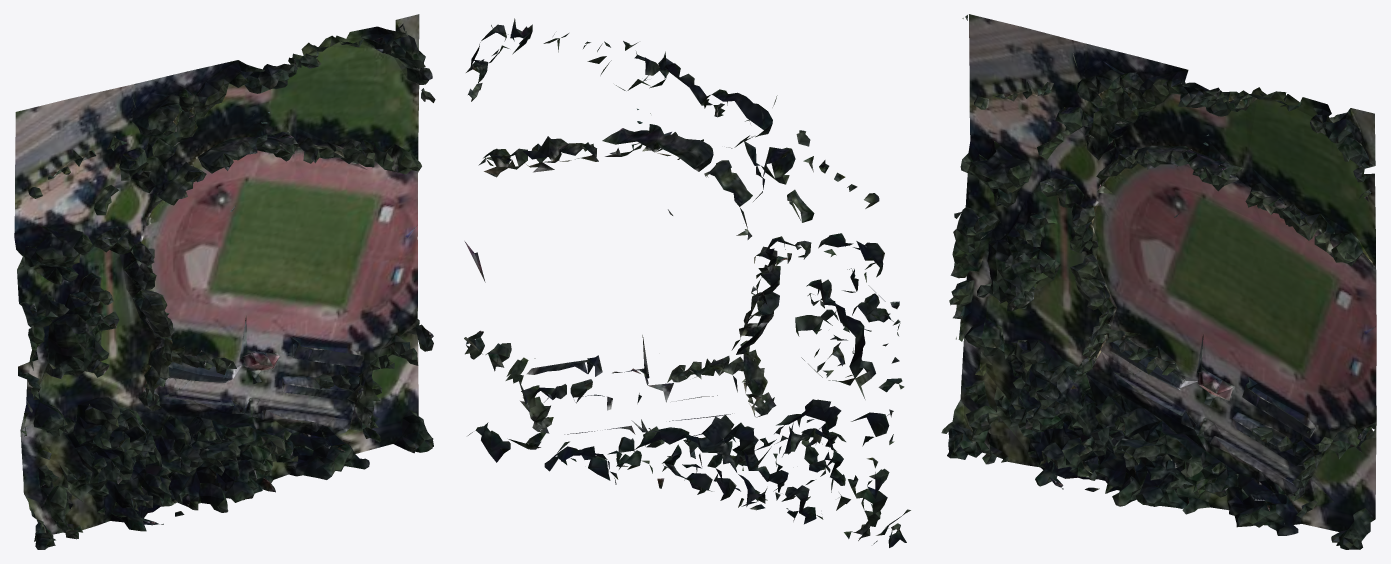
The model's file is Tile_+031_+030_L16_000.glb.
3 renders of one model, left to right at view 1: azimuth 30°, elevation 25°; view 2: azimuth 150°, elevation 25°; view 3: azimuth 330°, elevation 25°, orthographic. The views are drawn at different scales.
Size of the model in its own units: 250 by 250 by 35.96.
1 material, 1 textured.
